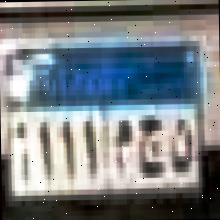1: (36, 120, 56, 188), (58, 120, 77, 186), (80, 120, 98, 184), (15, 117, 31, 187)
jeem: (133, 114, 165, 184)
meem: (112, 116, 132, 180)
noon: (168, 114, 194, 186)
